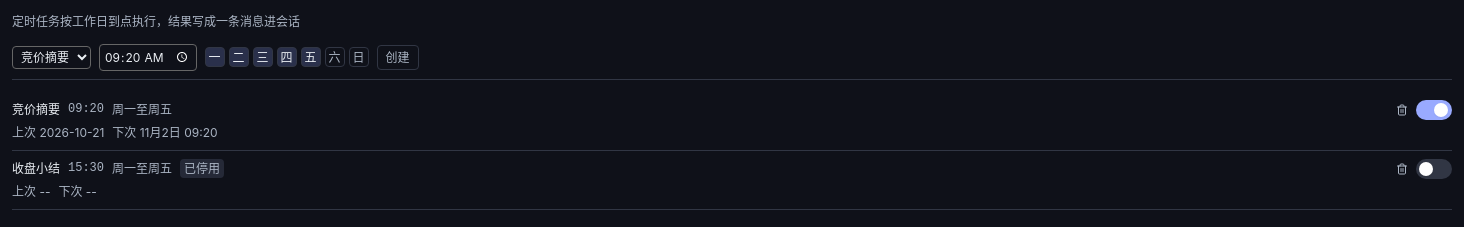
Test: SchedulePanel › 删除：二次确认后才调 DELETE
Expected: the number of list items with test id "schedule-row" is 2, [12, 92, 1452, 151]; [12, 151, 1452, 210]
Click the 1st button with test id "schedule-delete".
click(1402, 110)  # box [1392, 100, 1412, 120]
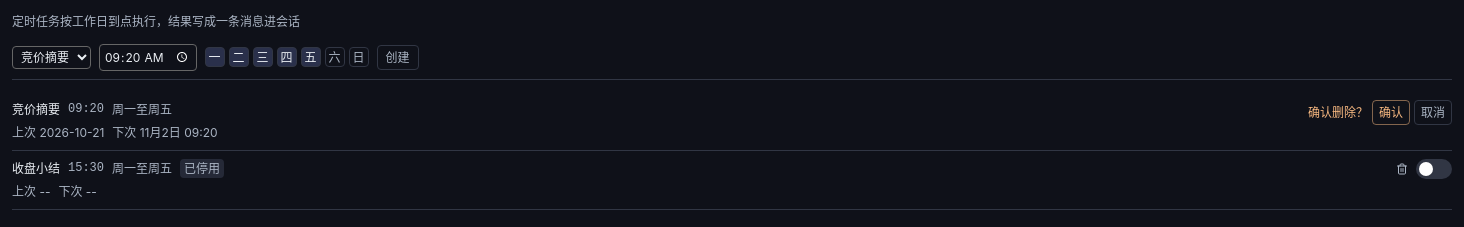
Expected: the button with test id "schedule-delete-confirm" is shown
Click the button with test id "schedule-delete-confirm".
click(1391, 112)  # box [1372, 100, 1410, 125]
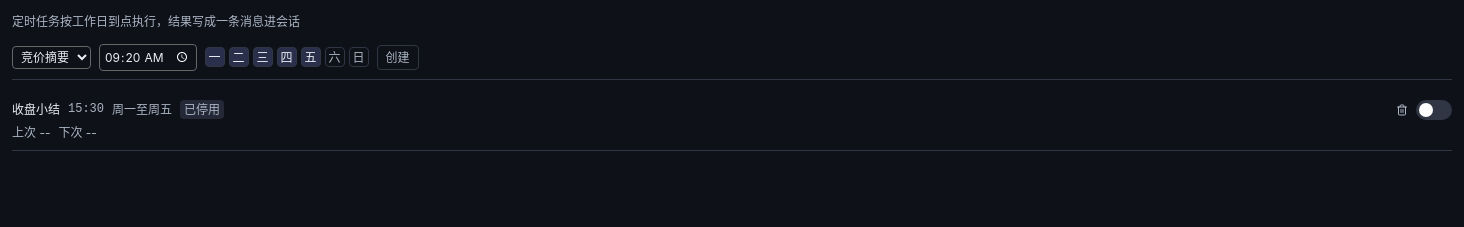
Expected: the number of list items with test id "schedule-row" is 1, [12, 92, 1452, 151]
